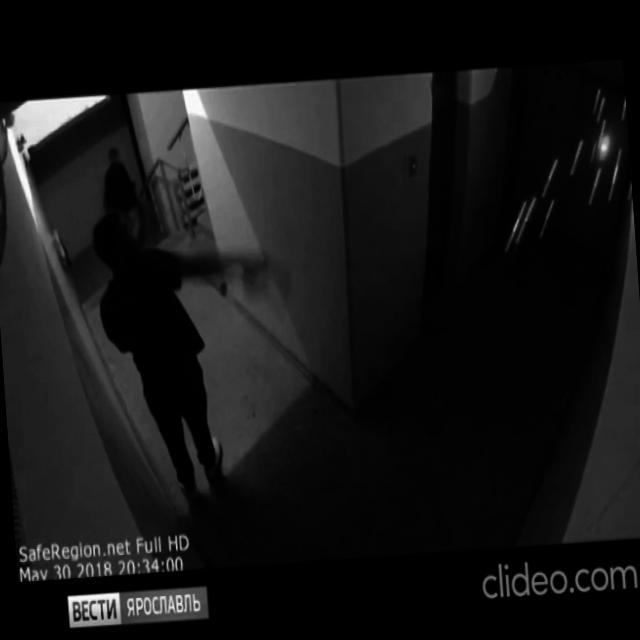gun: (238, 242, 294, 298)
person: (96, 142, 146, 258)
person with a gun: (90, 194, 308, 511)
